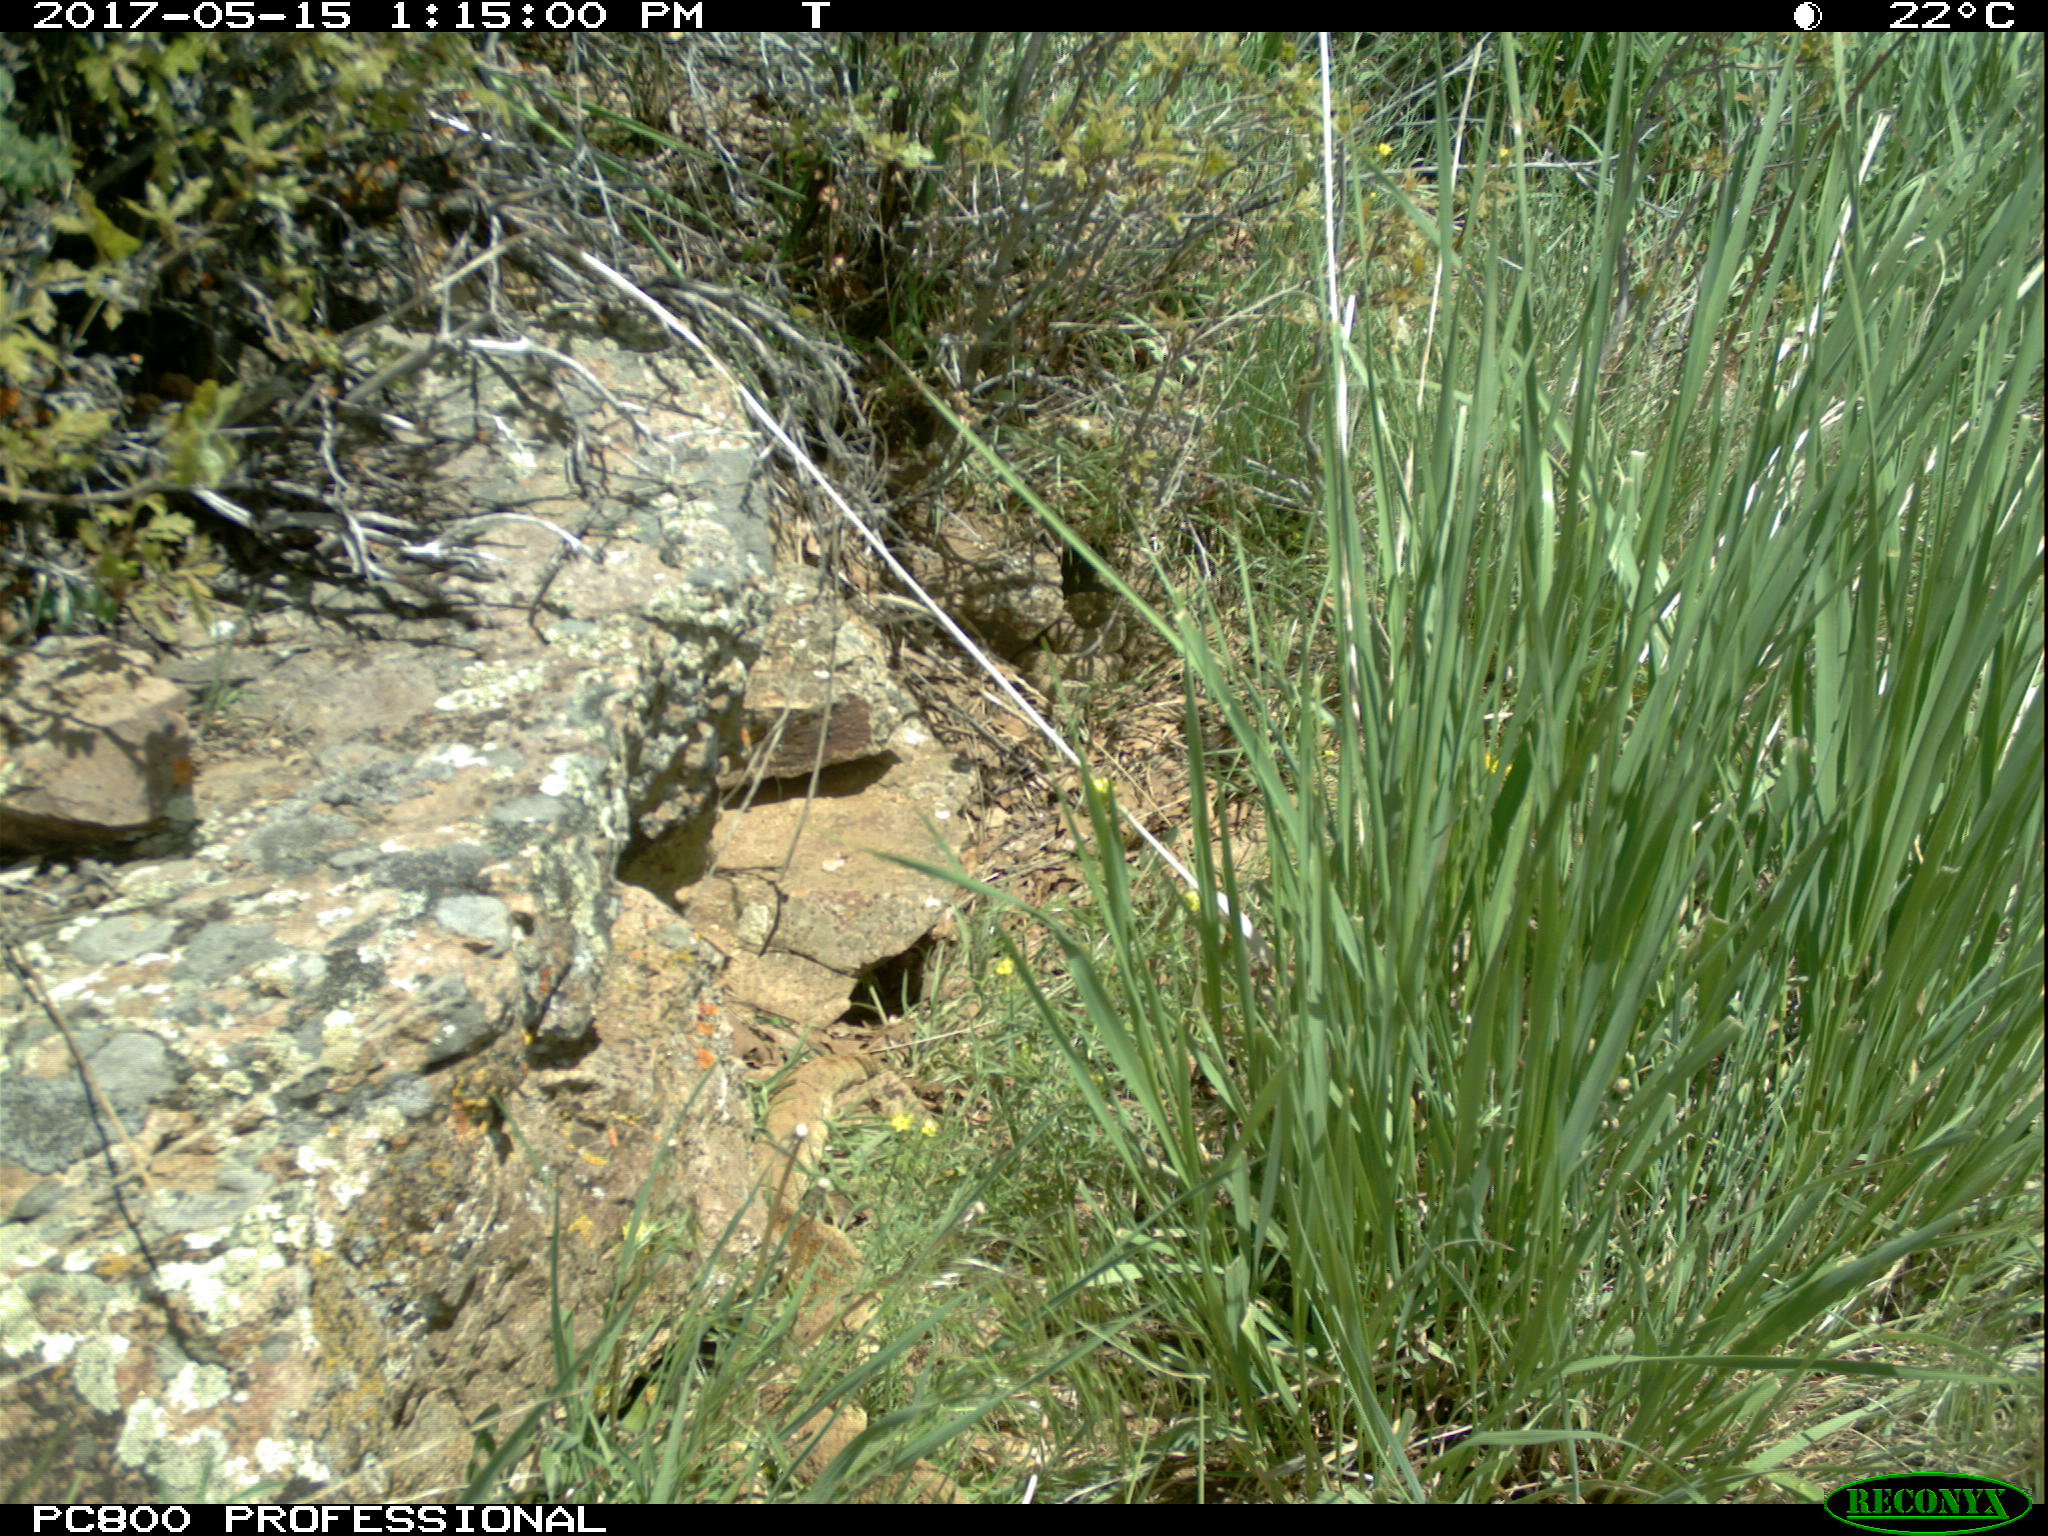snake: (751, 1054, 926, 1501), (1030, 587, 1129, 687)
